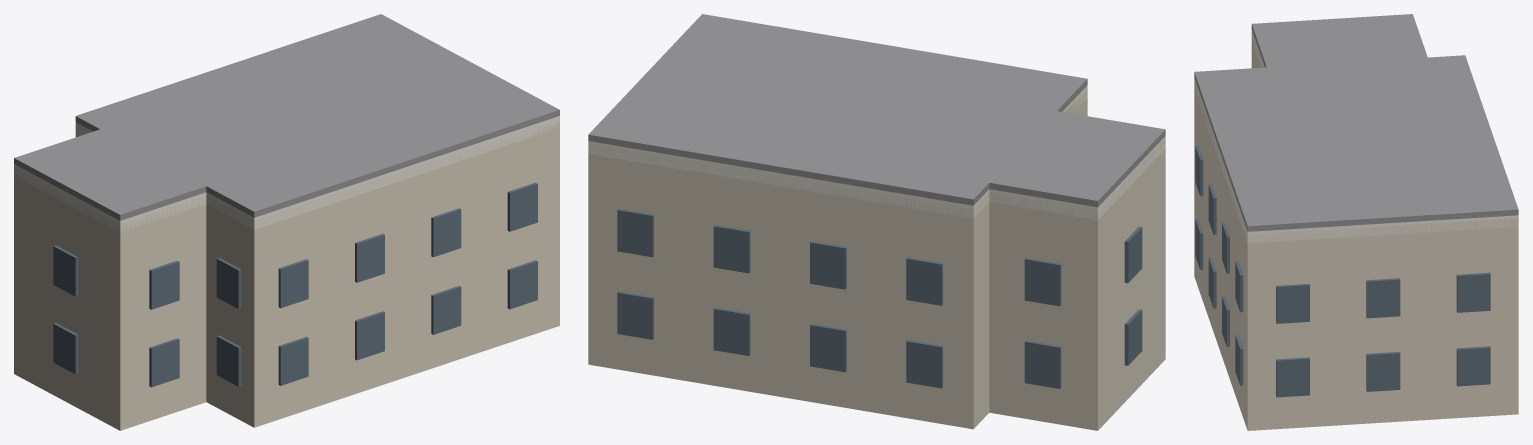
File: s50_gis_248160_820712.glb
3 renders of one model, left to right at view 1: azimuth 30°, elevation 25°; view 2: azimuth 150°, elevation 25°; view 3: azimuth 270°, elevation 25°, orthographic. The views are drawn at different scales.
Visible parts, largest first — view 1: mass, roofcap, cornice, win_3_1_0, win_5_1_2, win_5_0_0, win_5_0_2, win_5_0_3, win_5_1_0, win_5_1_3, win_3_0_0, win_5_0_1 (+5 smaller); view 2: mass, roofcap, cornice, win_1_1_0, win_7_0_1, win_7_1_1, win_1_0_0, win_7_0_0, win_7_1_2, win_7_1_3, win_7_1_0, win_7_0_2 (+3 smaller); view 3: mass, roofcap, cornice, win_6_0_1, win_6_0_2, win_6_1_1, win_6_1_2, win_6_0_0, win_6_1_0, win_5_0_1, win_5_0_3, win_5_1_0 (+5 smaller).
Part boxes in pixels (left/top/right/bottom): mass: left=14, top=119, right=559, bottom=430; roofcap: left=14, top=14, right=559, bottom=220; cornice: left=14, top=116, right=559, bottom=232; win_3_1_0: left=149, top=260, right=179, bottom=309; win_5_1_2: left=431, top=208, right=461, bottom=257; win_5_0_0: left=278, top=337, right=308, bottom=385; win_5_0_2: left=431, top=285, right=461, bottom=334; win_5_0_3: left=507, top=260, right=537, bottom=309; win_5_1_0: left=278, top=259, right=308, bottom=308; win_5_1_3: left=507, top=182, right=537, bottom=231; win_3_0_0: left=149, top=338, right=179, bottom=387; win_5_0_1: left=355, top=311, right=384, bottom=360; mass: left=588, top=90, right=1165, bottom=430; roofcap: left=588, top=14, right=1165, bottom=207; cornice: left=588, top=85, right=1165, bottom=220; win_1_1_0: left=1024, top=258, right=1061, bottom=306; win_7_0_1: left=713, top=307, right=750, bottom=355; win_7_1_1: left=713, top=225, right=750, bottom=273; win_1_0_0: left=1024, top=340, right=1061, bottom=388; win_7_0_0: left=617, top=291, right=653, bottom=339; win_7_1_2: left=810, top=241, right=846, bottom=289; win_7_1_3: left=906, top=257, right=942, bottom=305; win_7_1_0: left=617, top=208, right=653, bottom=257; win_7_0_2: left=810, top=323, right=846, bottom=372; mass: left=1194, top=32, right=1518, bottom=430; roofcap: left=1194, top=14, right=1518, bottom=231; cornice: left=1194, top=30, right=1518, bottom=243; win_6_0_1: left=1366, top=351, right=1400, bottom=391; win_6_0_2: left=1456, top=346, right=1490, bottom=386; win_6_1_1: left=1366, top=278, right=1400, bottom=318; win_6_1_2: left=1456, top=272, right=1490, bottom=312; win_6_0_0: left=1276, top=357, right=1309, bottom=397; win_6_1_0: left=1276, top=283, right=1309, bottom=323; win_5_0_1: left=1208, top=257, right=1216, bottom=308; win_5_0_3: left=1235, top=334, right=1243, bottom=385; win_5_1_0: left=1195, top=145, right=1203, bottom=196.
Size of the model in its own units: 18.56 by 8.35 by 11.99.
